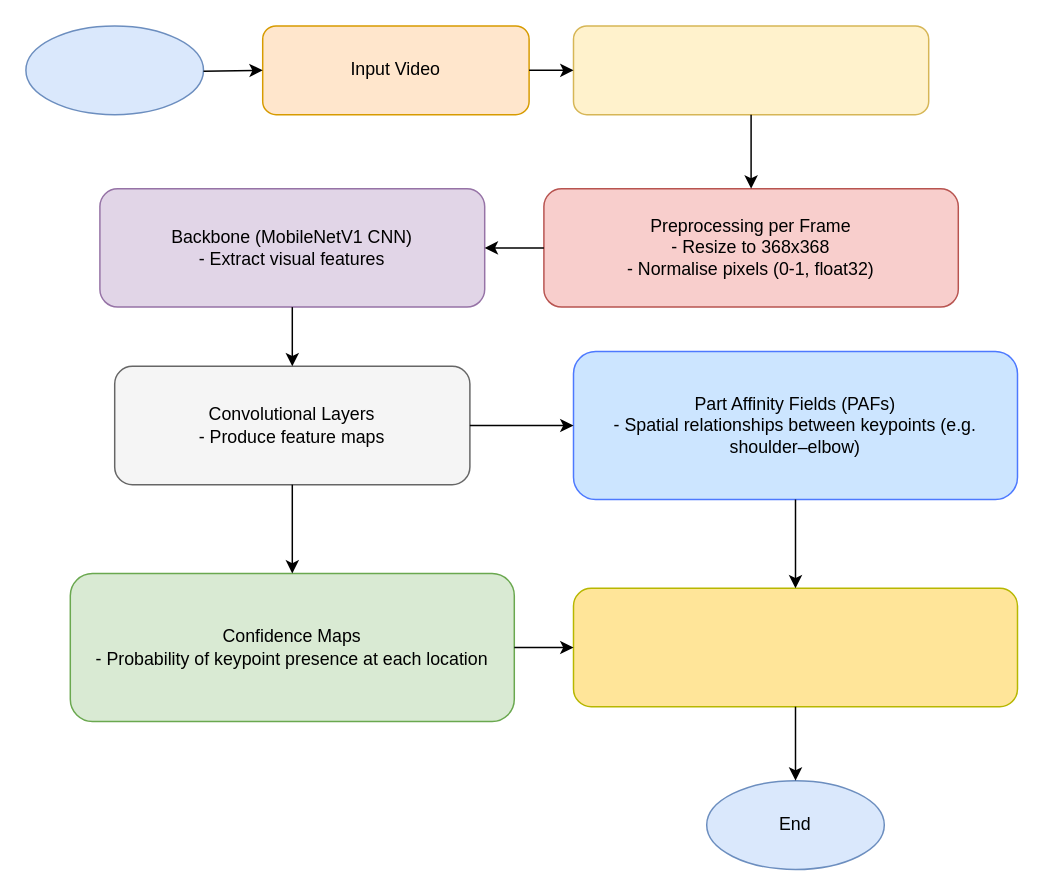
Image size: 1043x895. Some labels were removed from this diagram. The centre of each missing label's shape, as x and y in pixels:
Final Output per Frame - Keypoints + Relationships (skeleton pose): the point at 795,647
Frame Extraction (process frame by frame): the point at 750,69
Start: the point at 114,69
